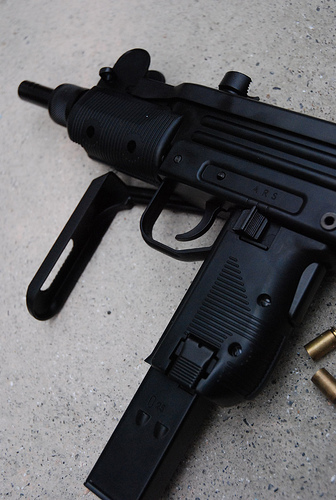rifle: (9, 37, 334, 472)
